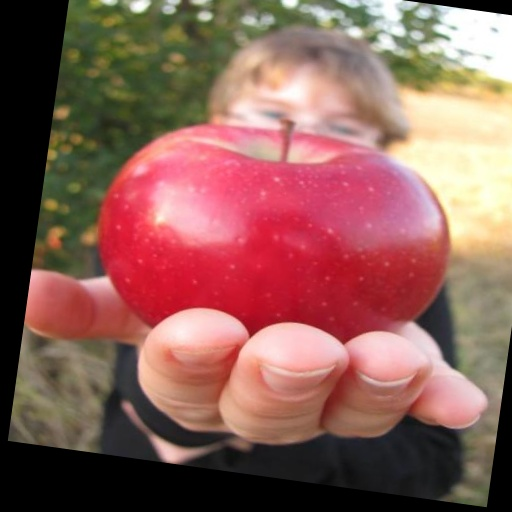fruit: (99, 125, 449, 341)
